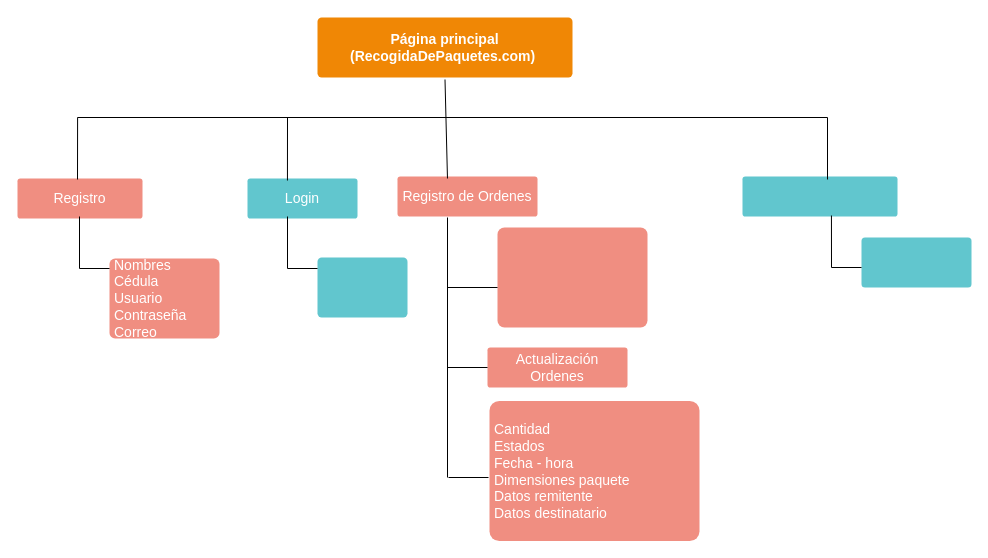
The diagram is 988 pixels wide and 558 high, and some of its shapes have lost their labels. The box of each missing label's shape, as (x1, y1, x2, y2) in pixels:
Cantidad Estados: (861, 237, 971, 287)
Fecha - hora Dimensiones paquete Datos remitente Datos destinatario: (497, 227, 647, 327)
Listado de Ordenes: (742, 176, 897, 216)
Usuario Contraseña: (317, 257, 407, 317)
